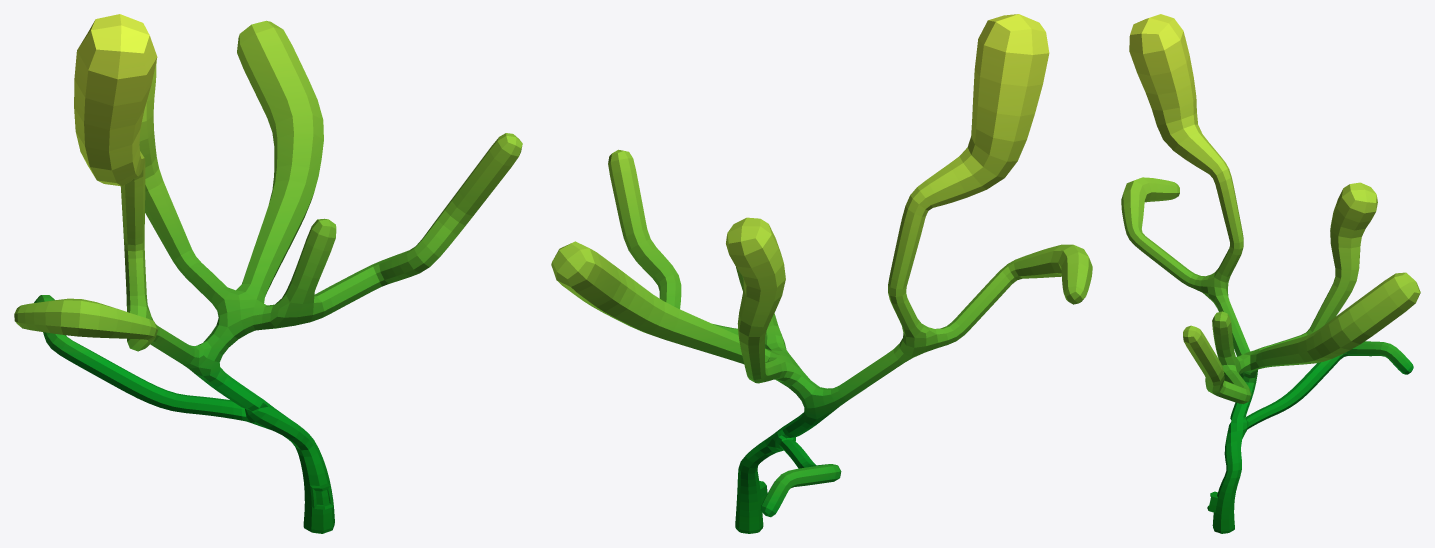
The model's file is drzewko.glb.
3 views of the same model, side by side, from view 1: azimuth 30°, elevation 25°; view 2: azimuth 150°, elevation 25°; view 3: azimuth 270°, elevation 25° (orthographic). The views are drawn at different scales.
Visible parts, largest first — view 1: Cube; view 2: Cube; view 3: Cube.
Boxes of the visible parts, left/top/right/bottom form: Cube: left=14, top=14, right=522, bottom=533; Cube: left=551, top=14, right=1092, bottom=533; Cube: left=1121, top=14, right=1420, bottom=533.
Size of the model in its own units: 13.54 by 15.06 by 9.58.
Materials: 1 (1 with a texture image).
